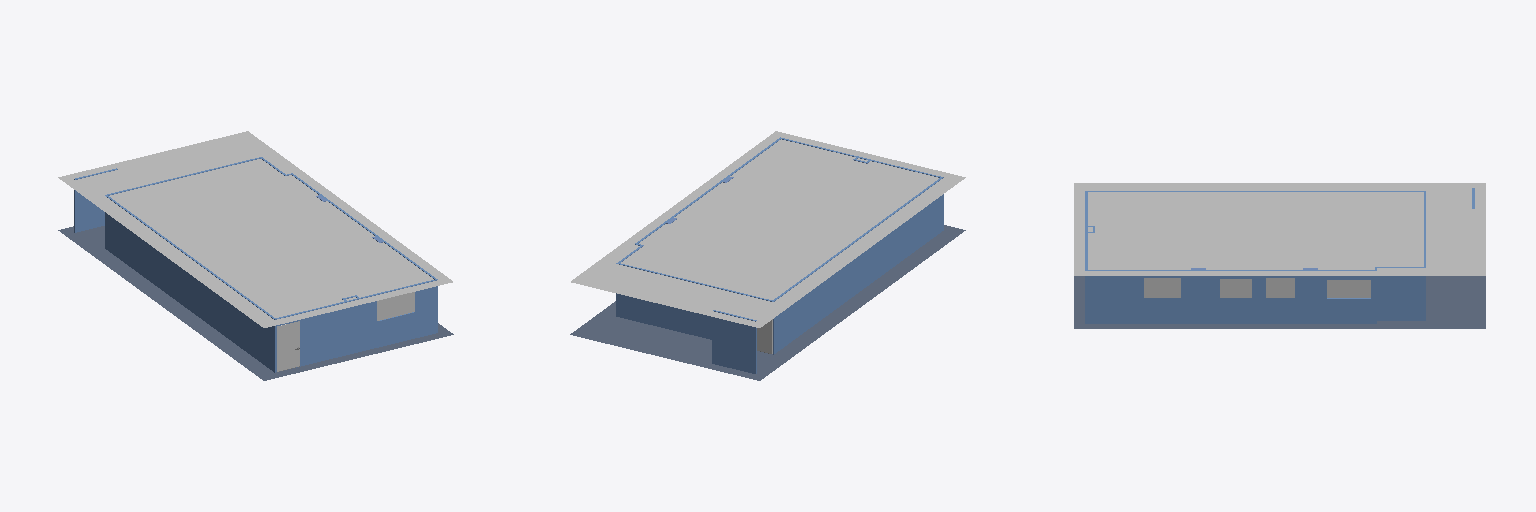
The model's file is all.obj.
3 views of the same model, side by side, from view 1: azimuth 30°, elevation 25°; view 2: azimuth 150°, elevation 25°; view 3: azimuth 270°, elevation 25° (orthographic).
Visible parts, largest first — view 1: emptyroom_Material.016, emptyroom_Material.013, emptyroom_Material.015, windows_Glass, Door_1_Material.001; view 2: emptyroom_Material.016, emptyroom_Material.013, emptyroom_Material.015; view 3: emptyroom_Material.016, emptyroom_Material.013, emptyroom_Material.015, windows_Glass.
Boxes of the visible parts, x1,y1,x2,y2 form: emptyroom_Material.016: [58, 131, 452, 327]; emptyroom_Material.013: [74, 157, 437, 372]; emptyroom_Material.015: [58, 226, 453, 380]; windows_Glass: [279, 292, 414, 350]; Door_1_Material.001: [277, 321, 299, 371]; emptyroom_Material.016: [571, 131, 965, 327]; emptyroom_Material.013: [616, 137, 943, 373]; emptyroom_Material.015: [570, 225, 965, 380]; emptyroom_Material.016: [1074, 183, 1485, 275]; emptyroom_Material.013: [1085, 188, 1474, 323]; emptyroom_Material.015: [1074, 276, 1485, 328]; windows_Glass: [1144, 278, 1370, 297].
Size of the model in its own units: 9.32 by 2.5 by 17.51.